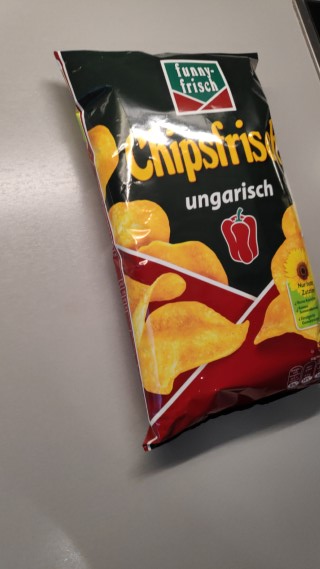chipsfrisch: (52, 47, 319, 451)
